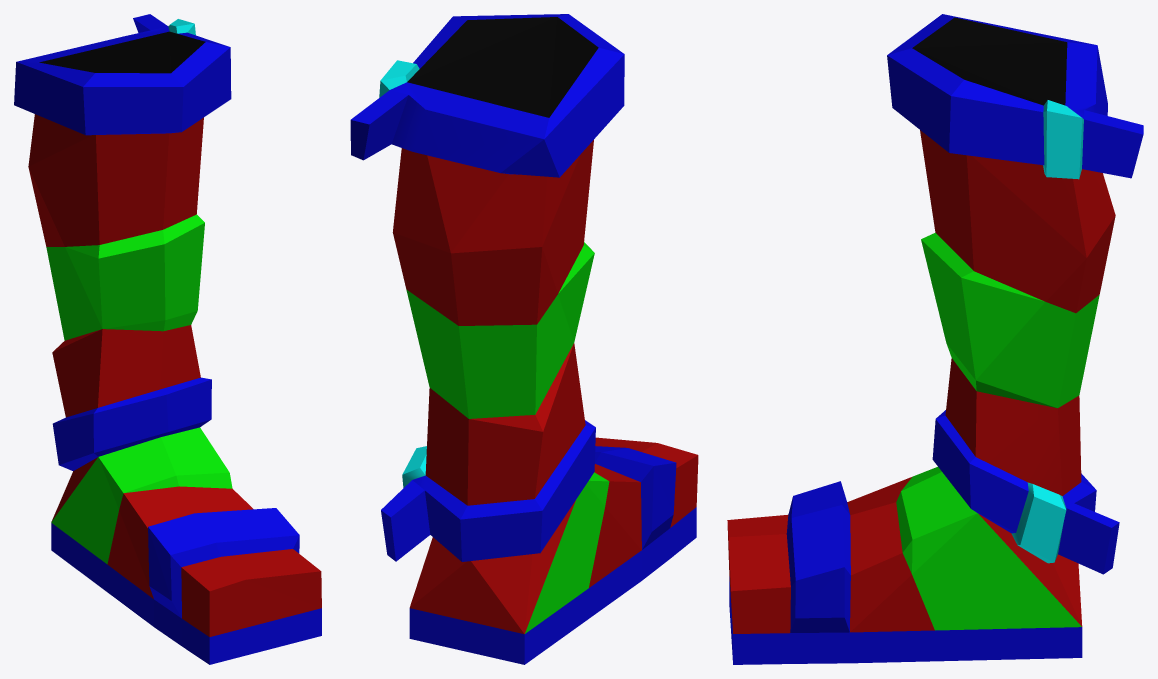
The model's file is Chr_LegRight_Male_Static_17.fbx.
3 renders of one model, left to right at view 1: azimuth 30°, elevation 25°; view 2: azimuth 150°, elevation 25°; view 3: azimuth 270°, elevation 25°, orthographic. The views are drawn at different scales.
Parts seen in each view (by area): view 1: Chr_LegRight_Male_17; view 2: Chr_LegRight_Male_17; view 3: Chr_LegRight_Male_17.
Boxes of the visible parts, x1,y1,x2,y2 form: Chr_LegRight_Male_17: (14,14,321,664); Chr_LegRight_Male_17: (350,14,698,664); Chr_LegRight_Male_17: (727,14,1143,664).
Size of the model in its own units: 13.75 by 40.4 by 26.32.
